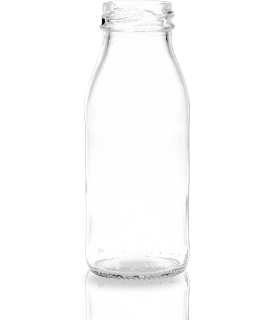glass_bottle: (82, 1, 192, 282)
